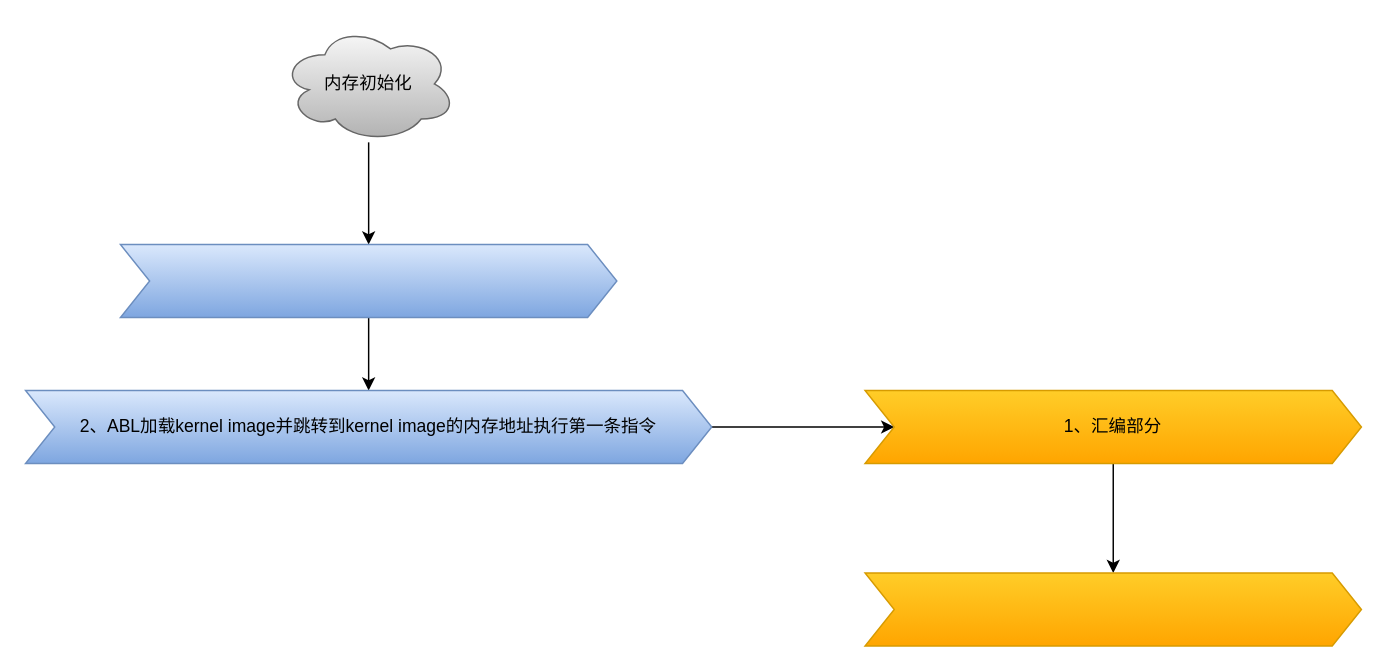
This 1387x672 diagram has some shape labels left out. Here are the shapes that lost their labels. From the top down, the centre of each, then its label:
pixel 368 280: 1、XBL-LOADER初始化DDR、trains、获取带宽信息
pixel 1112 609: 2、start_kernel
